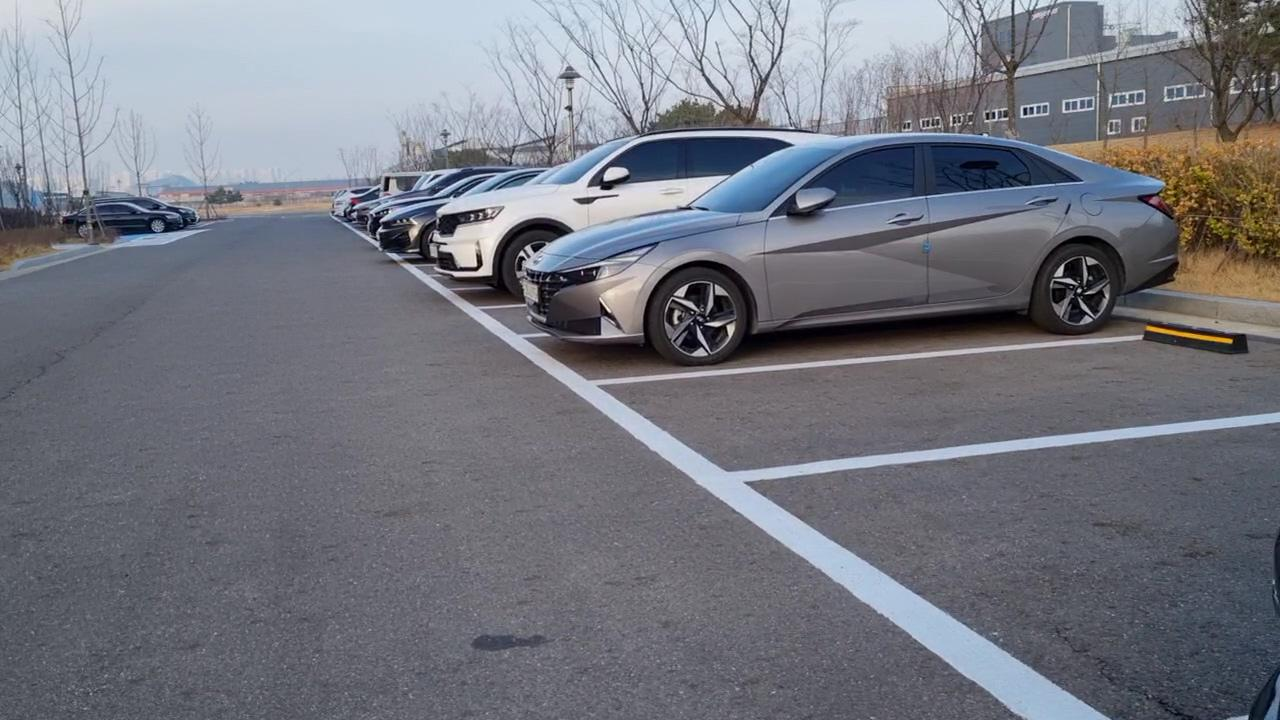empty: (572, 320, 1267, 498)
occupied: (502, 143, 1086, 396), (429, 182, 534, 313)
